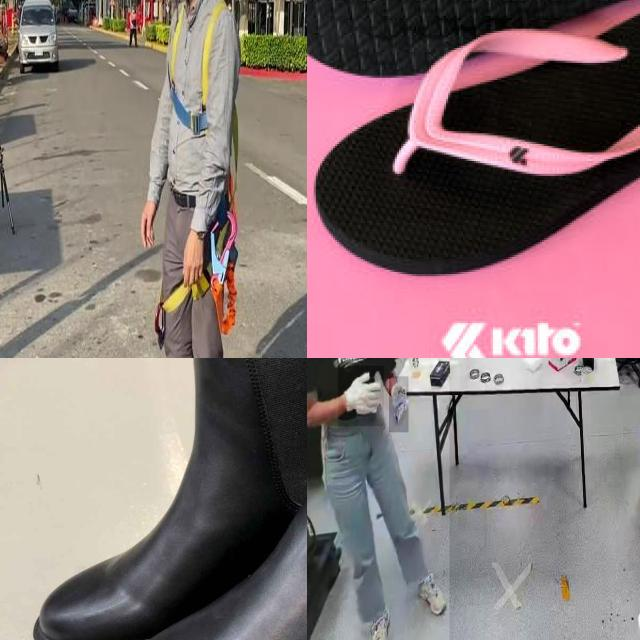Harness: (155, 181, 239, 348), (170, 1, 227, 136)
Sandals: (307, 0, 640, 307), (9, 358, 307, 640)
hand_glove: (338, 366, 384, 426), (389, 377, 409, 432)
person: (307, 358, 450, 640)
shoes: (414, 570, 448, 620), (367, 598, 394, 640)
